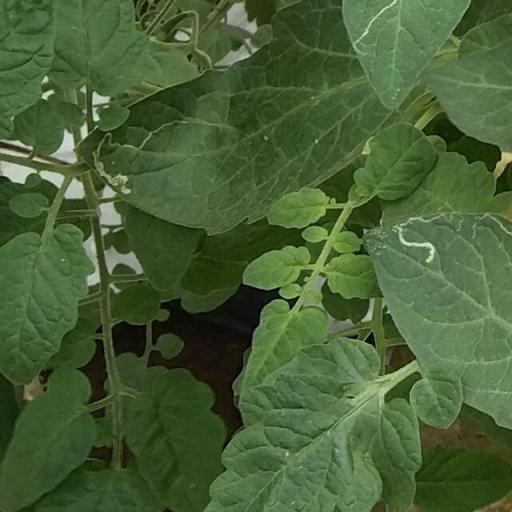Healthy: (199, 337, 422, 512), (0, 220, 98, 390), (0, 368, 102, 512), (127, 367, 227, 512), (49, 0, 138, 96), (238, 299, 328, 393), (354, 122, 438, 200), (240, 244, 311, 292), (409, 368, 463, 429), (12, 98, 64, 157), (264, 186, 330, 229), (325, 253, 383, 301), (113, 283, 161, 328)
Leaf_Miner: (68, 0, 396, 238), (357, 206, 512, 436), (337, 0, 472, 114)
